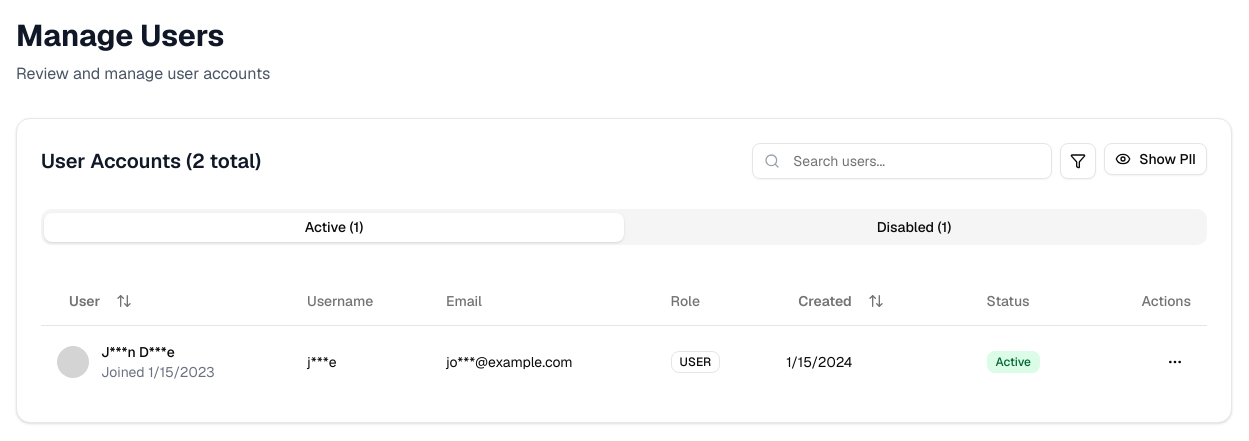
UsersPage › should toggle PII button text when clicked
The width and height of the screenshot is (1249, 441).
Expected: the heading "Manage Users" is shown, [16,16,224,55]
Click the button
Click the button "Show PII".
click(1156, 159)  # box [1104,143,1207,175]
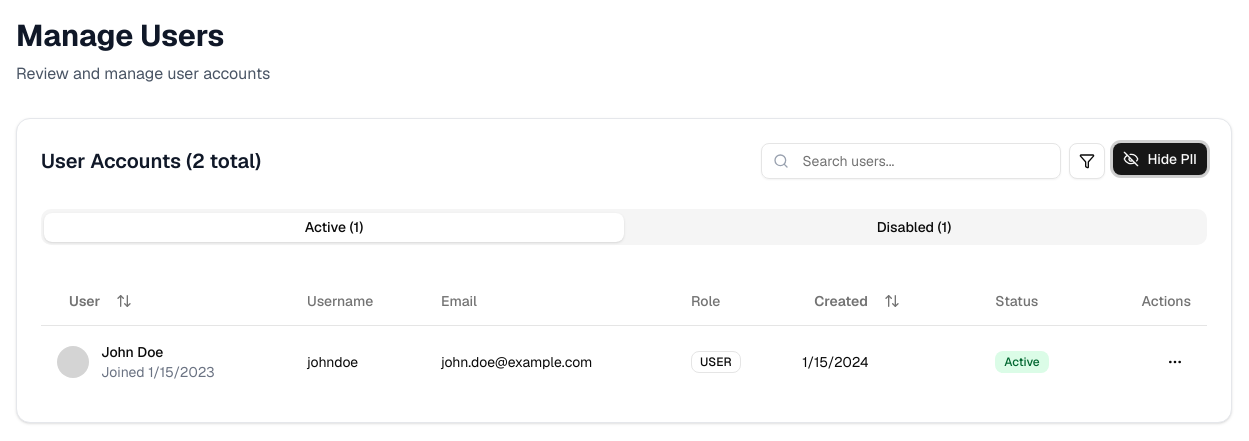
Result: the button "Hide PII" is shown at [1113,143,1207,175]
